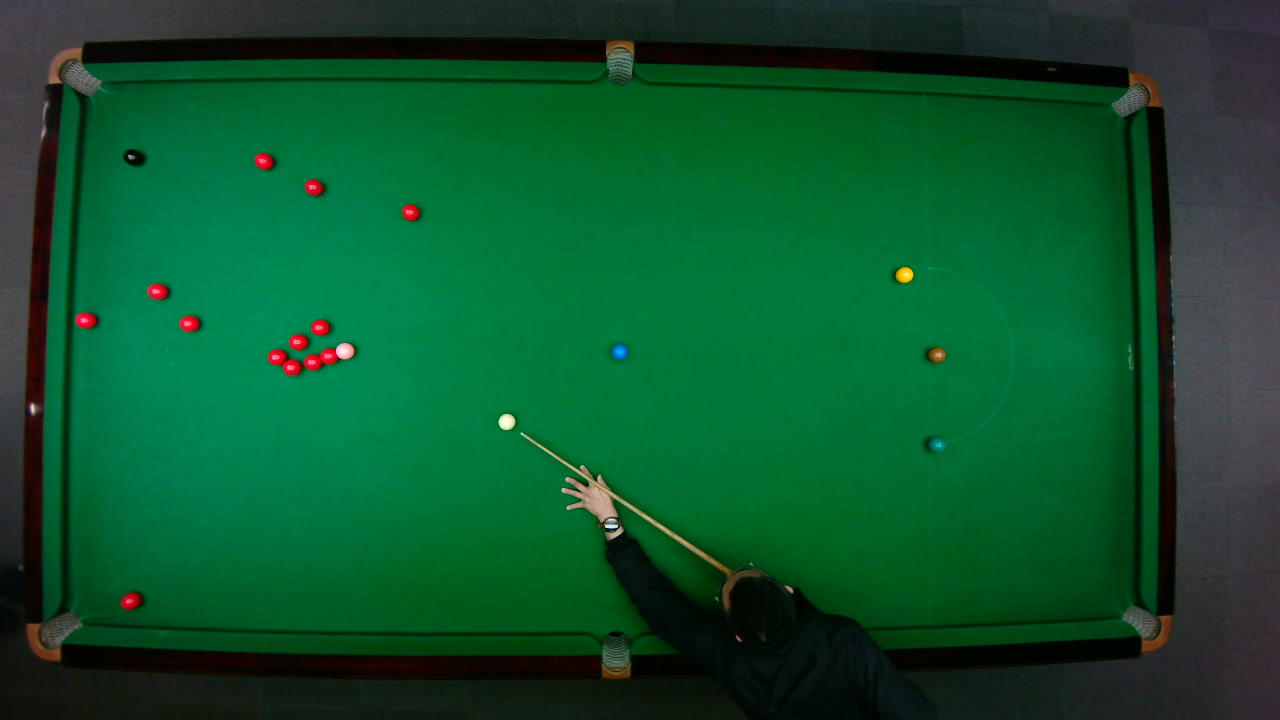bag: (25, 609, 84, 662), (45, 46, 102, 96), (1119, 603, 1171, 652), (1108, 71, 1161, 118), (600, 629, 630, 680), (605, 38, 633, 85)
black: (121, 148, 143, 166)
blue: (610, 342, 628, 360)
brown: (926, 346, 946, 362)
cue: (518, 430, 733, 573)
green: (926, 434, 946, 452)
pink: (334, 341, 355, 360)
red: (118, 590, 142, 610), (145, 281, 168, 300), (73, 310, 97, 328), (177, 314, 200, 332), (253, 151, 274, 170), (303, 177, 324, 196), (265, 347, 287, 365), (400, 202, 420, 221), (302, 352, 323, 370), (309, 317, 330, 335), (287, 332, 308, 350), (281, 358, 302, 376), (318, 346, 337, 365)
white: (496, 412, 516, 430)
yellow: (893, 265, 914, 283)
zone: (926, 265, 1013, 444)
